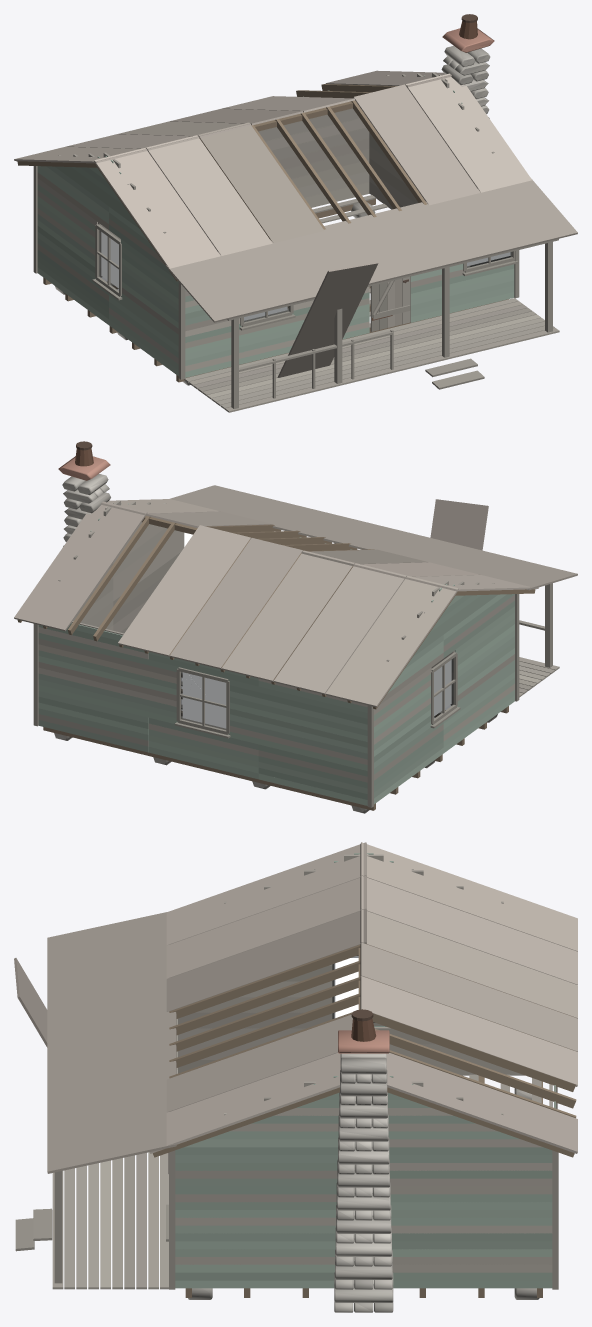
Rendered from cabin_abandoned_a_broken_roof.glb.
3 renders of one model, top to bottom at view 1: azimuth 30°, elevation 25°; view 2: azimuth 150°, elevation 25°; view 3: azimuth 270°, elevation 25°, orthographic. The views are drawn at different scales.
Parts seen in each view (by area): view 1: body, door, windows, window_light; view 2: body, windows, window_light; view 3: body, window_light.
Part boxes in pixels (box(x1,y1,x2,y2)): body: box(14, 14, 577, 412); door: box(370, 276, 410, 331); windows: box(99, 230, 512, 322); window_light: box(101, 232, 510, 320); body: box(14, 441, 577, 813); windows: box(181, 658, 453, 729); window_light: box(182, 532, 451, 728); body: box(14, 842, 577, 1312); window_light: box(335, 958, 358, 1017).
Size of what is drawn, in the model's own units: 9.46 by 5.47 by 8.96.
